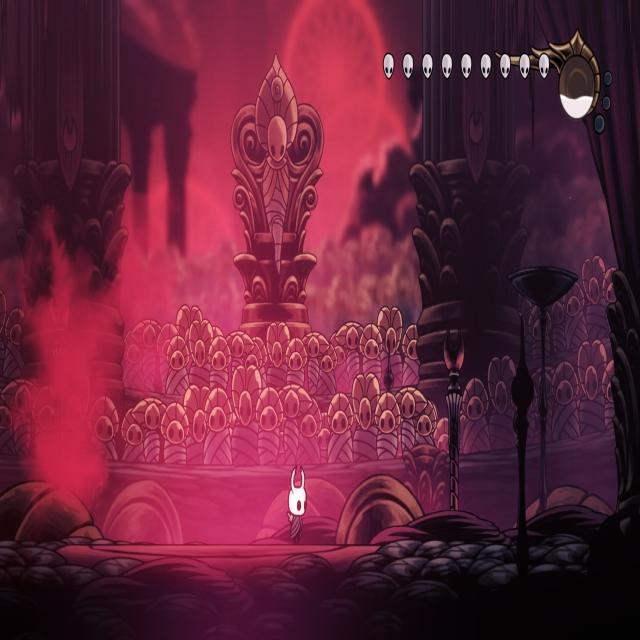Player: (283, 463, 307, 548)
